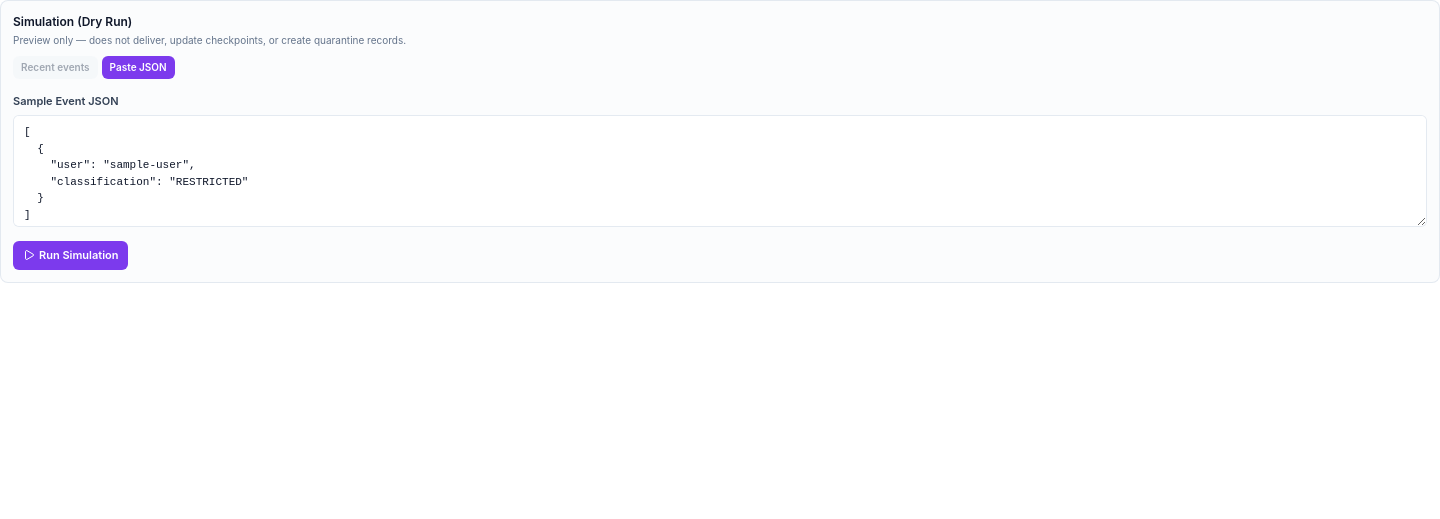
Test: PolicySimulationPanel › shows matched simulation result
Click the button with test id "policy-simulation-run". click: (71, 255)
box: [13,241,128,270]
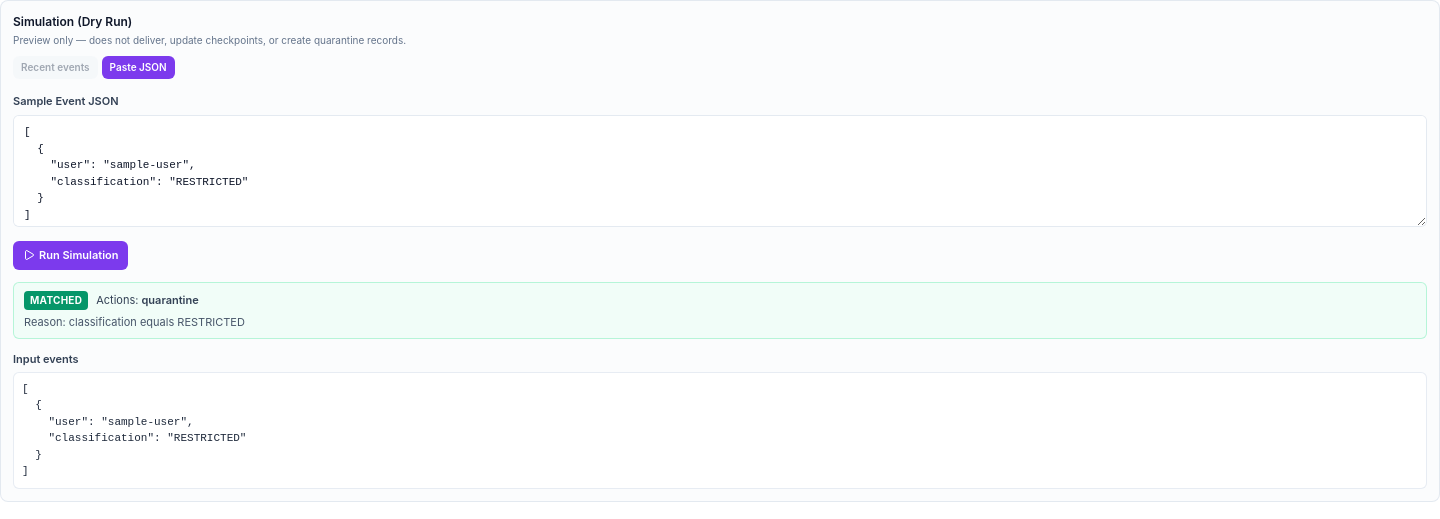
Now the element with test id "policy-simulation-result-matched" is shown, box [13,282,1427,339]
Now the text "Matched" is shown, box [24,290,88,310]
Now the text "Actions: quarantine" is shown, box [96,292,199,308]
